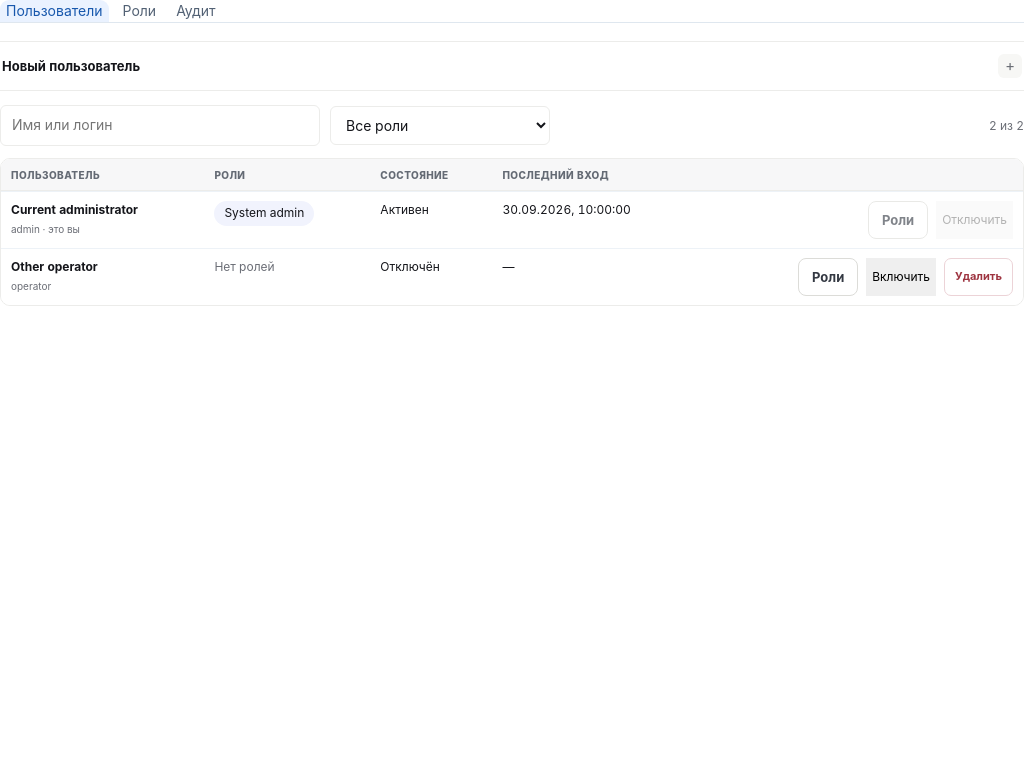
user access management › searches roles in the picker when the catalog is large
Expected: the text "Other operator" is shown, [11,259,98,274]
Click the button with aria-label "Изменить роли: Other operator" at (828, 277), box [798,258,858,296]
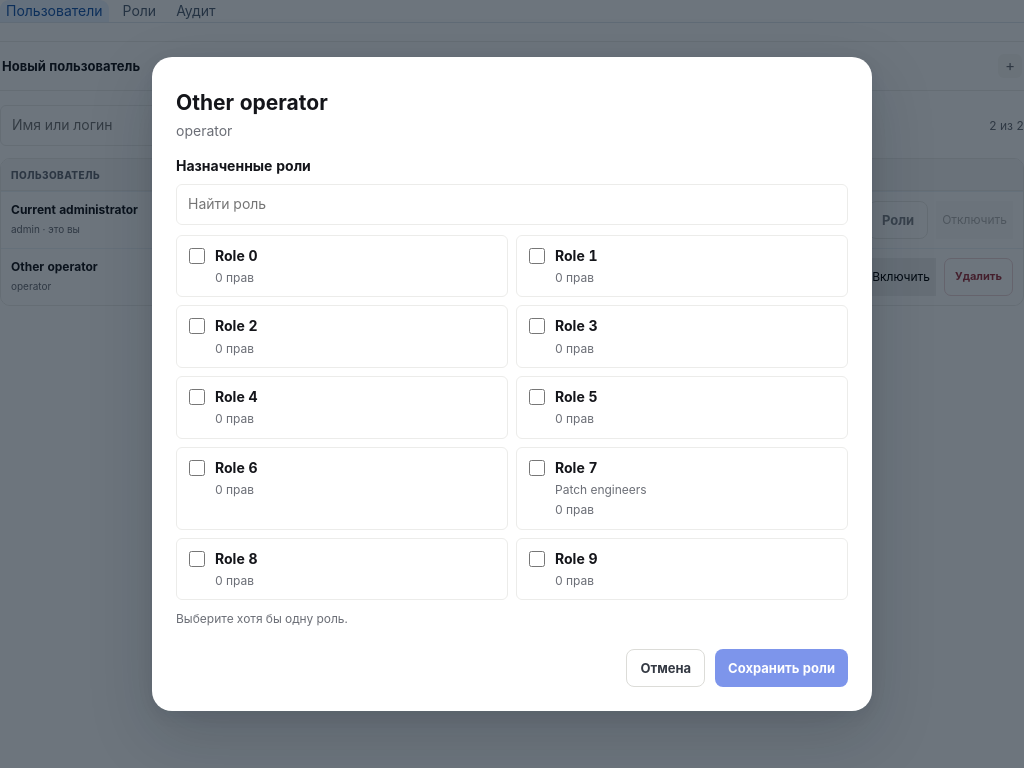
Type "patch" into the search field named "Поиск роли" at (512, 204), box [176,184,848,225]
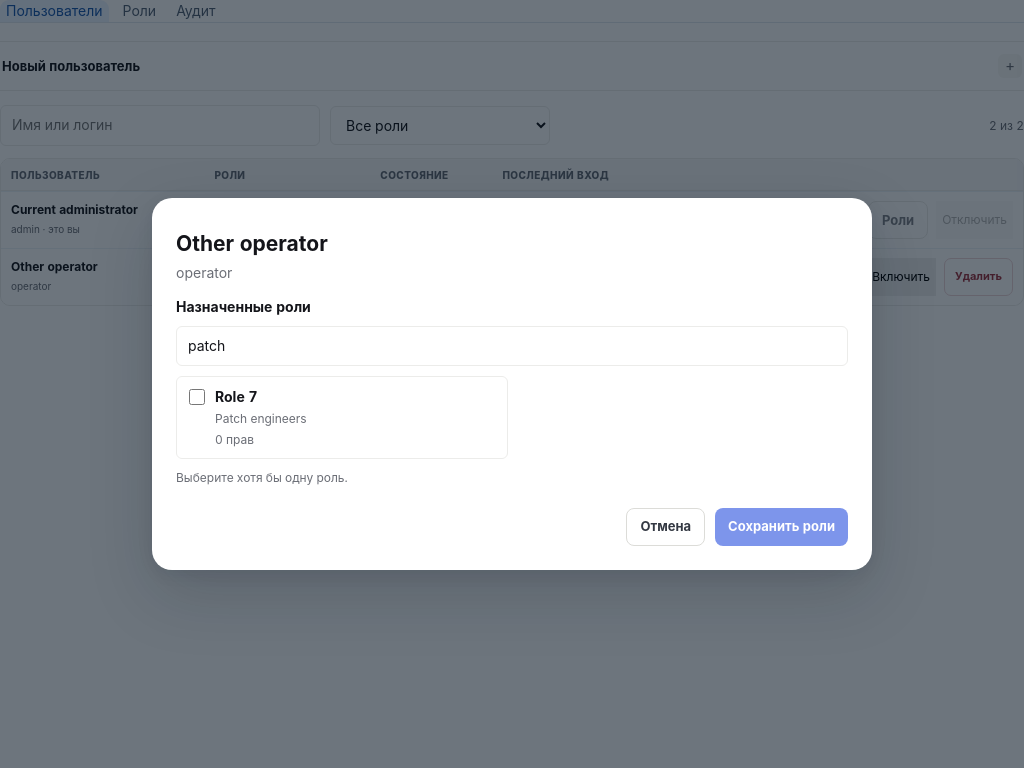
Now the number of checkboxes is 1, box [189,389,205,405]
Replace the text in the search field named "Поиск роли" with "nothing" at (512, 346), box [176,326,848,366]
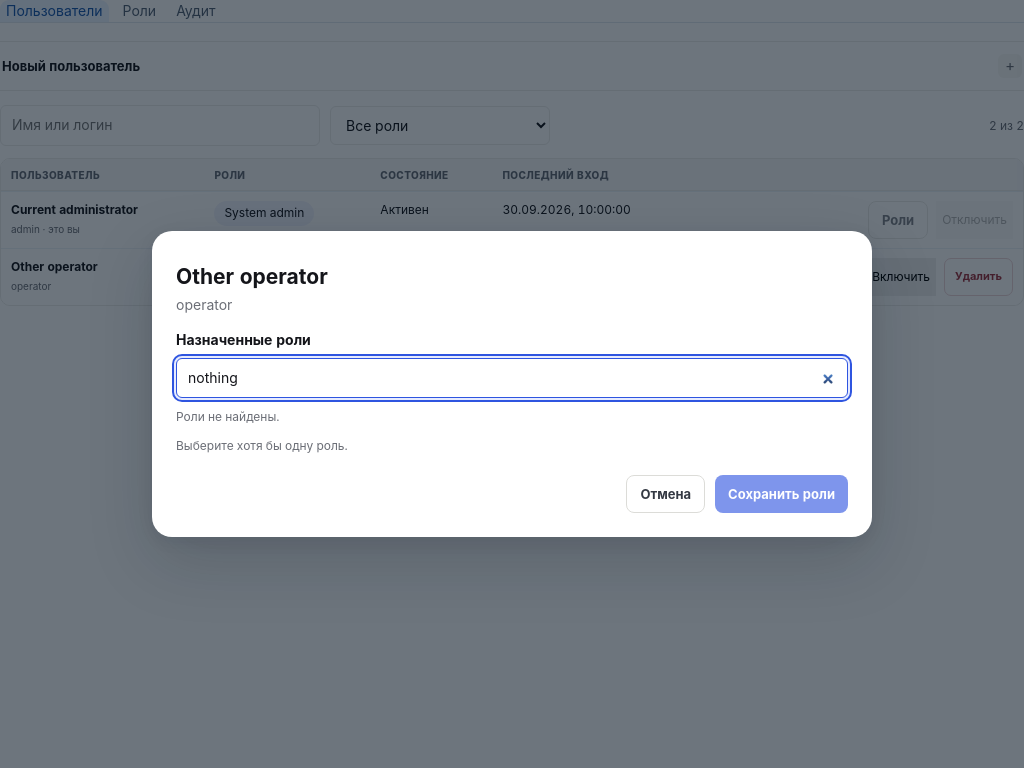
Now the text "Роли не найдены." is shown, box [176,409,280,424]
